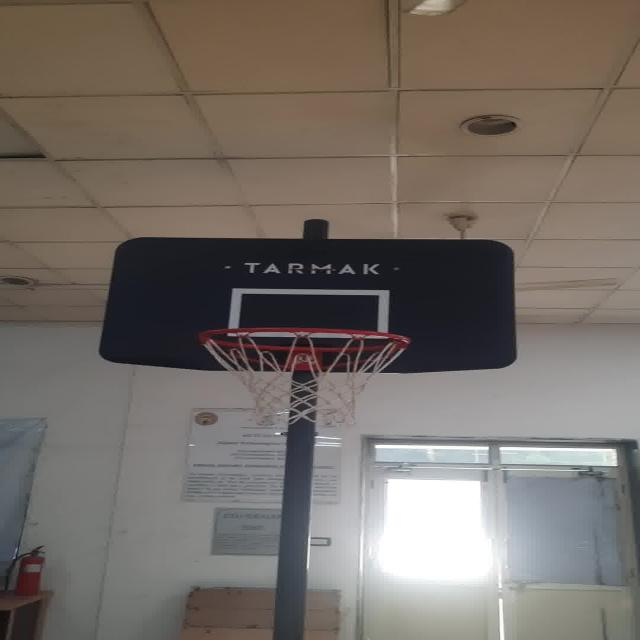objects: (182, 323, 425, 435), (236, 289, 384, 335)
